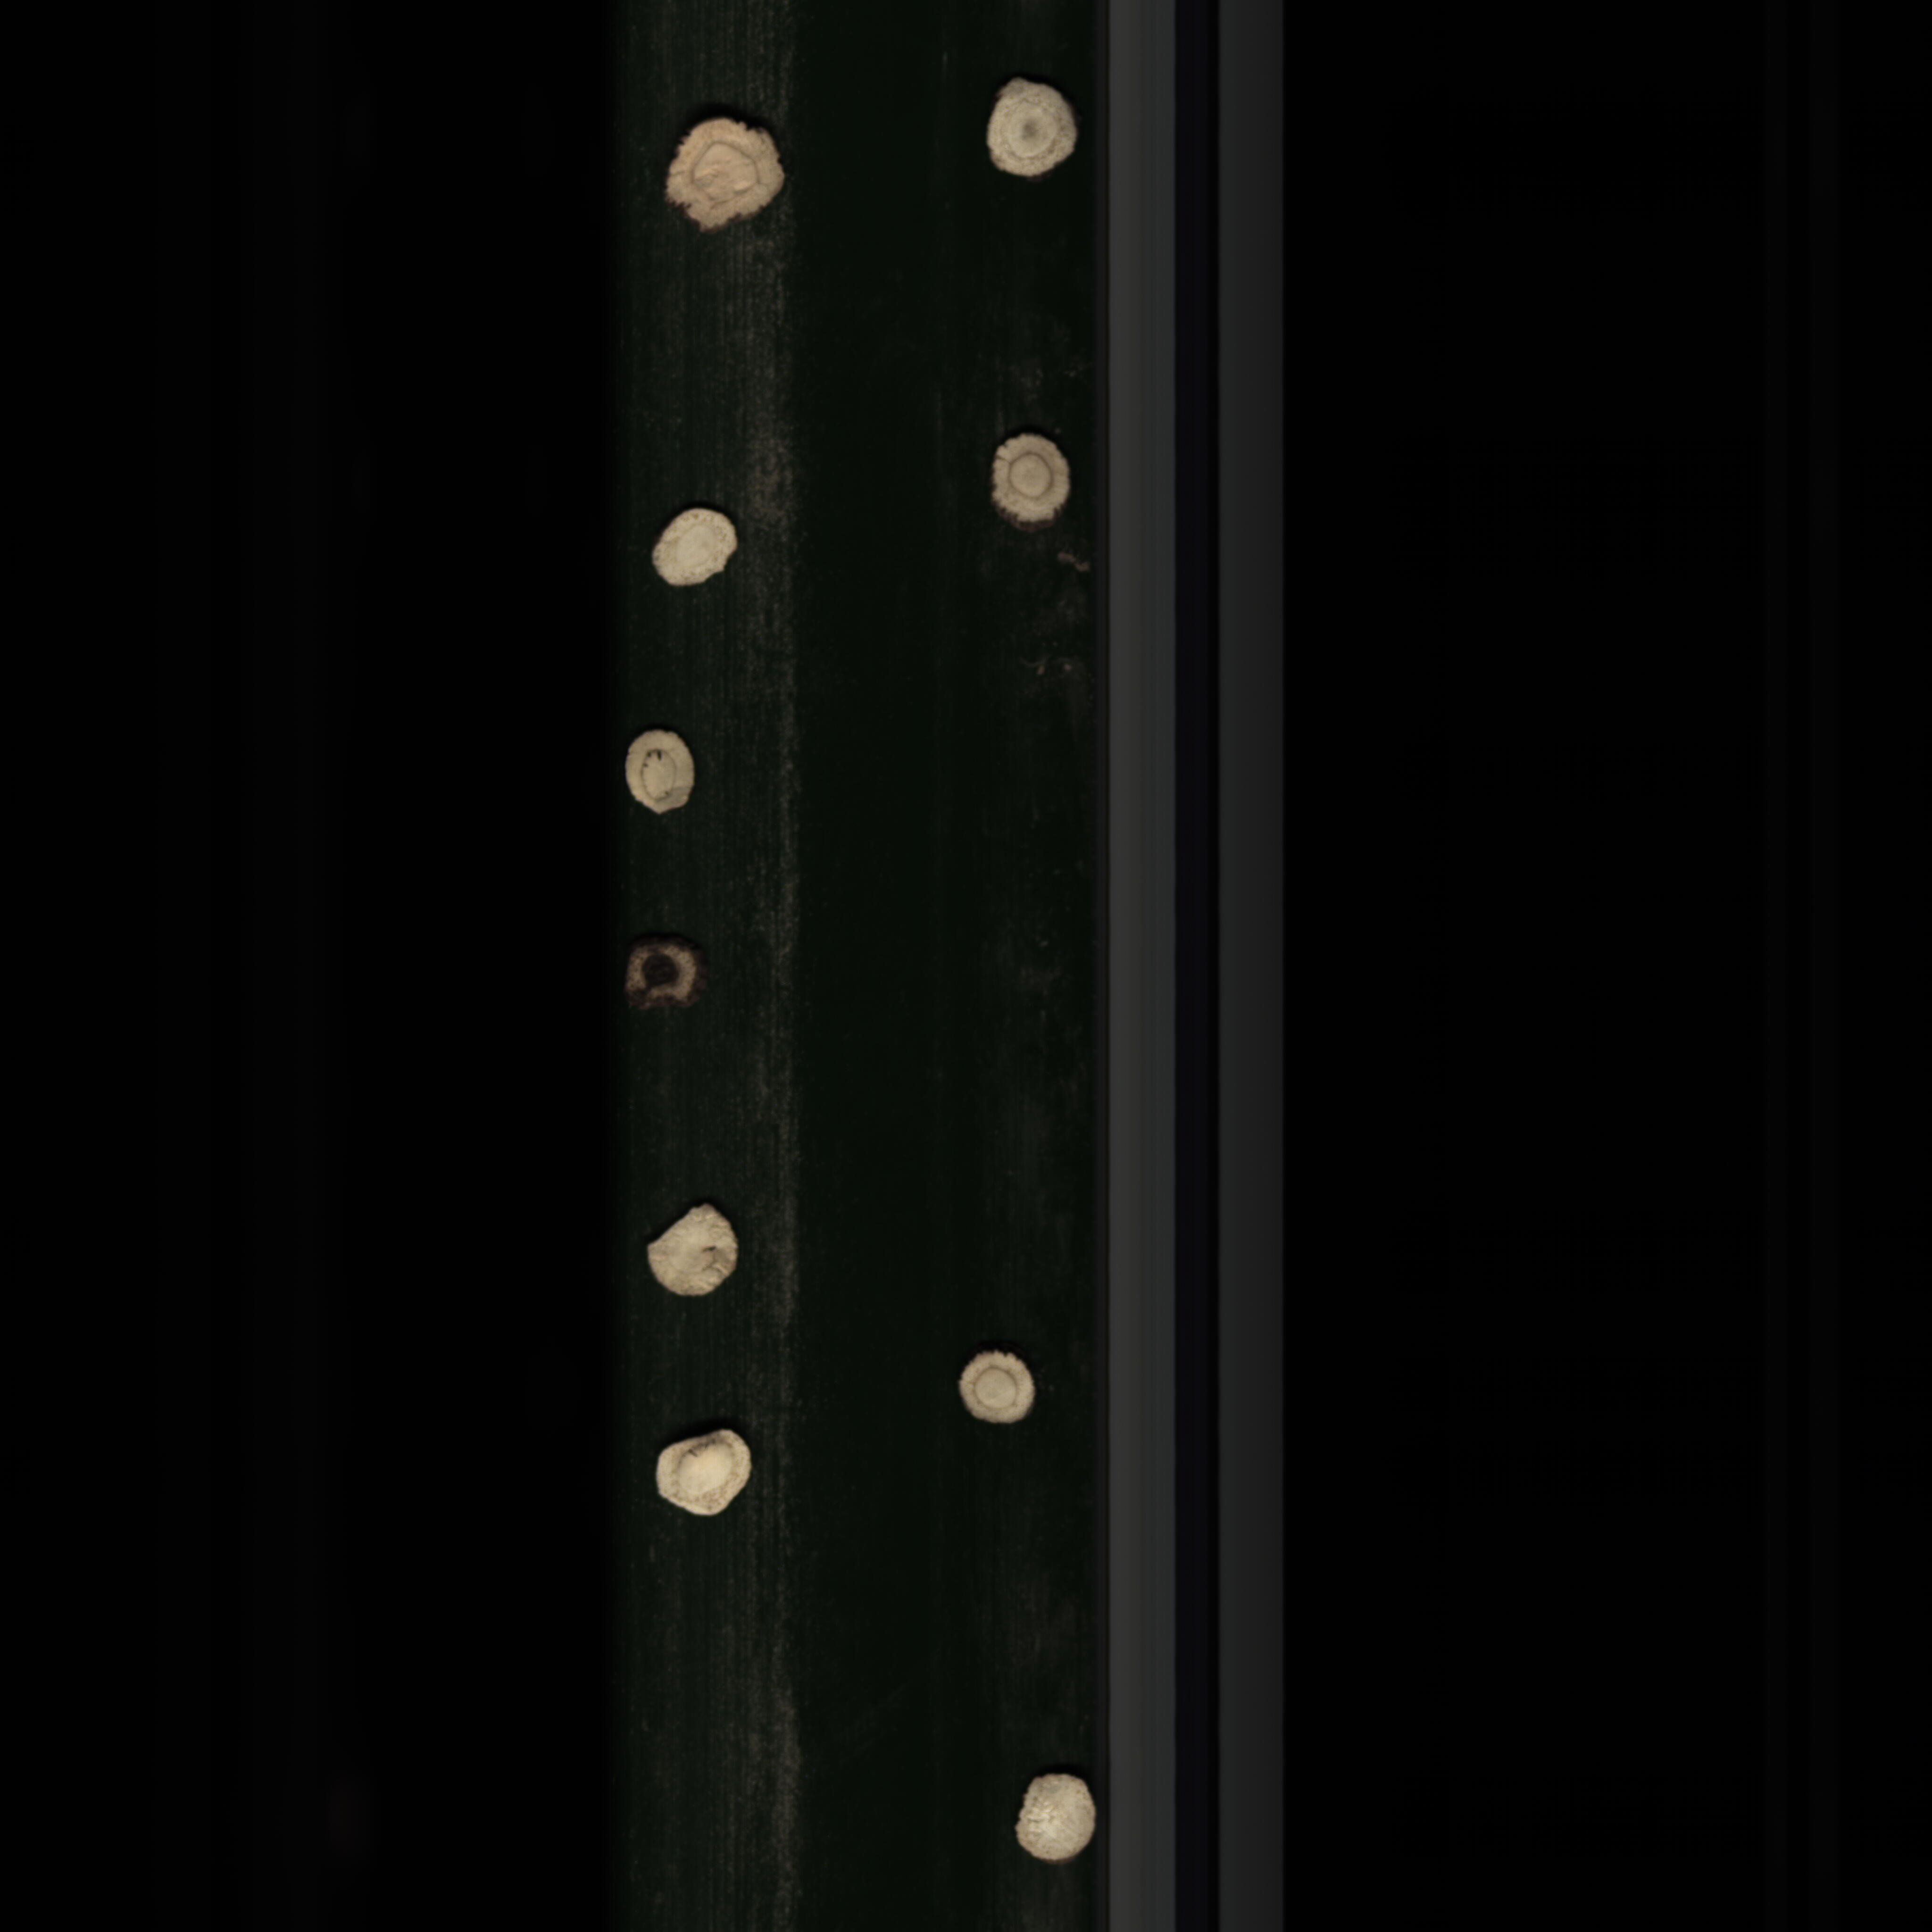moldy: (658, 111, 796, 241), (985, 426, 1081, 540), (614, 934, 709, 1019)
